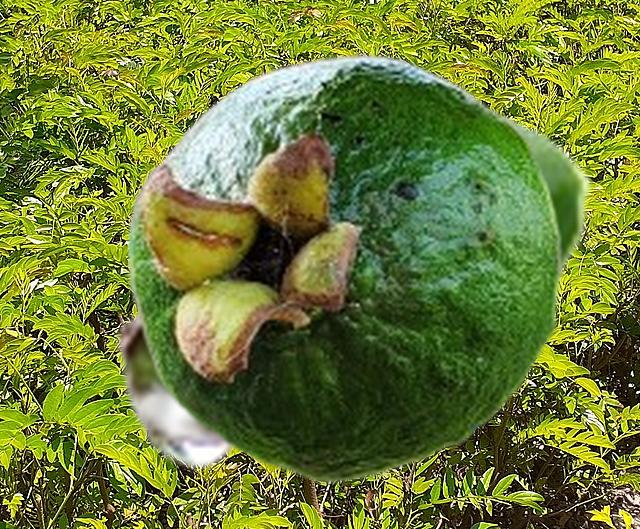guava: (125, 53, 564, 484), (115, 104, 593, 471)
